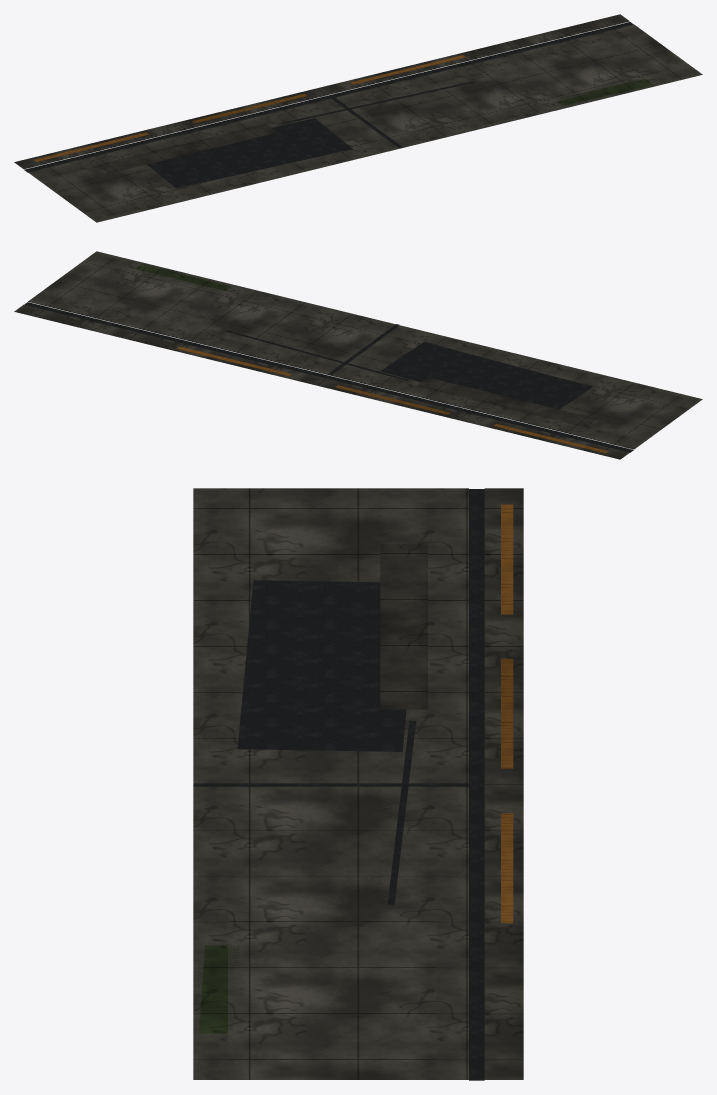
The model's file is road_apron.glb.
3 views of the same model, one above another, from view 1: azimuth 30°, elevation 25°; view 2: azimuth 150°, elevation 25°; view 3: azimuth 270°, elevation 25° (orthographic). The views are drawn at different scales.
Parts seen in each view (by area): view 1: road_apron; view 2: road_apron; view 3: road_apron.
Part boxes in pixels (x1,y1,x2,y2): road_apron: (14,14,702,222); road_apron: (14,251,702,459); road_apron: (193,488,523,1080).
Bounding box in the file's own units: 16.1 × 0.02 × 3.8.
3 materials, 3 textured.
